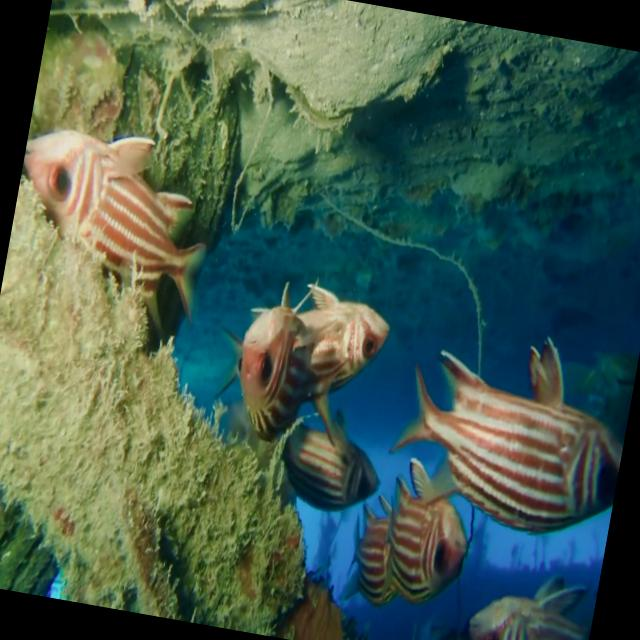Asker Baligi: (378, 313, 638, 550), (0, 114, 225, 335), (202, 263, 396, 463)
